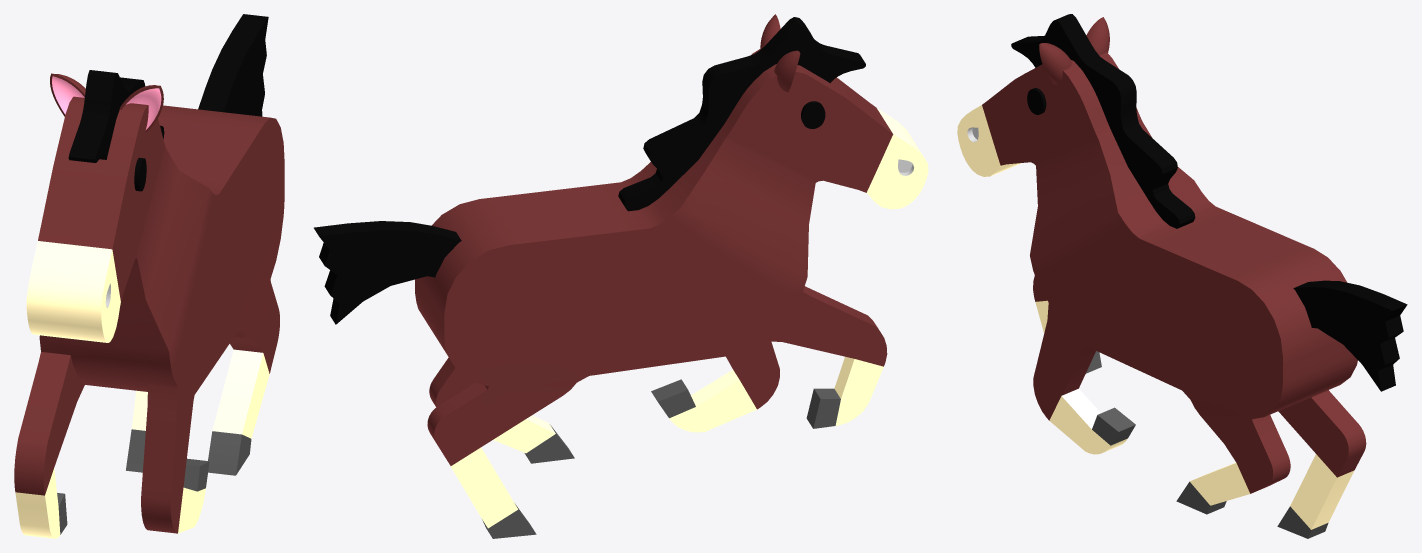
The model's file is horse.glb.
The picture shows the model from 3 angles, left to right: view 1: azimuth 30°, elevation 25°; view 2: azimuth 150°, elevation 25°; view 3: azimuth 270°, elevation 25°; orthographic projection. The views are drawn at different scales.
Parts seen in each view (by area): view 1: Plane.111, Plane.112, Cube.6211, Cube.6212, Circle.1880; view 2: Plane.111, Cube.6211, Plane.112, Cube.6212; view 3: Plane.111, Cube.6211, Plane.112, Cube.6212.
Part boxes in pixels (<box>): Plane.111: <box>14,96,284,538</box>; Plane.112: <box>198,14,268,116</box>; Cube.6211: <box>68,70,164,162</box>; Cube.6212: <box>50,73,163,132</box>; Circle.1880: <box>134,157,146,191</box>; Plane.111: <box>415,49,928,538</box>; Cube.6211: <box>618,17,865,211</box>; Plane.112: <box>314,221,461,324</box>; Cube.6212: <box>760,14,800,92</box>; Plane.111: <box>957,52,1366,538</box>; Cube.6211: <box>1011,14,1195,228</box>; Plane.112: <box>1293,280,1407,391</box>; Cube.6212: <box>1039,17,1109,84</box>.
Bounding box in the file's own units: 2.24 × 2.39 × 2.24.
1 material, 1 textured.
